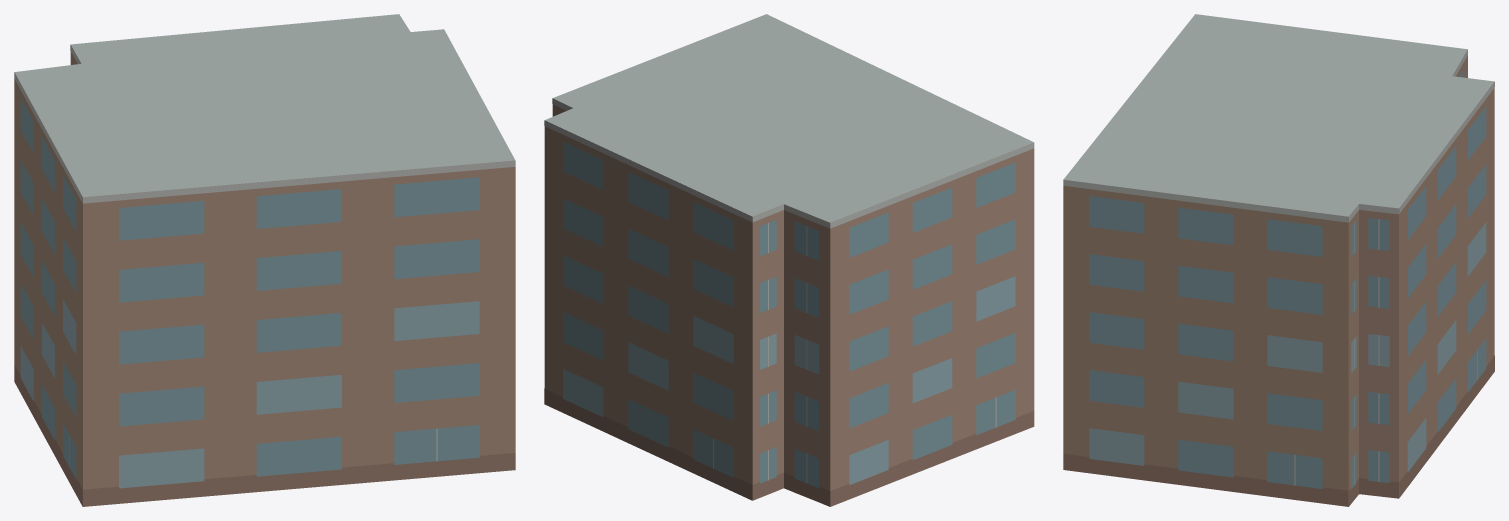
The model's file is survey-upis-32616031.glb.
3 renders of one model, left to right at view 1: azimuth 30°, elevation 25°; view 2: azimuth 150°, elevation 25°; view 3: azimuth 270°, elevation 25°, orthographic. The views are drawn at different scales.
Visible parts, largest first — view 1: survey-upis-32616031.tmp; view 2: survey-upis-32616031.tmp; view 3: survey-upis-32616031.tmp.
Part boxes in pixels (box(x1,y1,x2,y2)): survey-upis-32616031.tmp: box(14, 14, 515, 506); survey-upis-32616031.tmp: box(544, 14, 1034, 506); survey-upis-32616031.tmp: box(1063, 14, 1494, 506).
Size of the model in its own units: 17.84 by 11.9 by 16.05.
